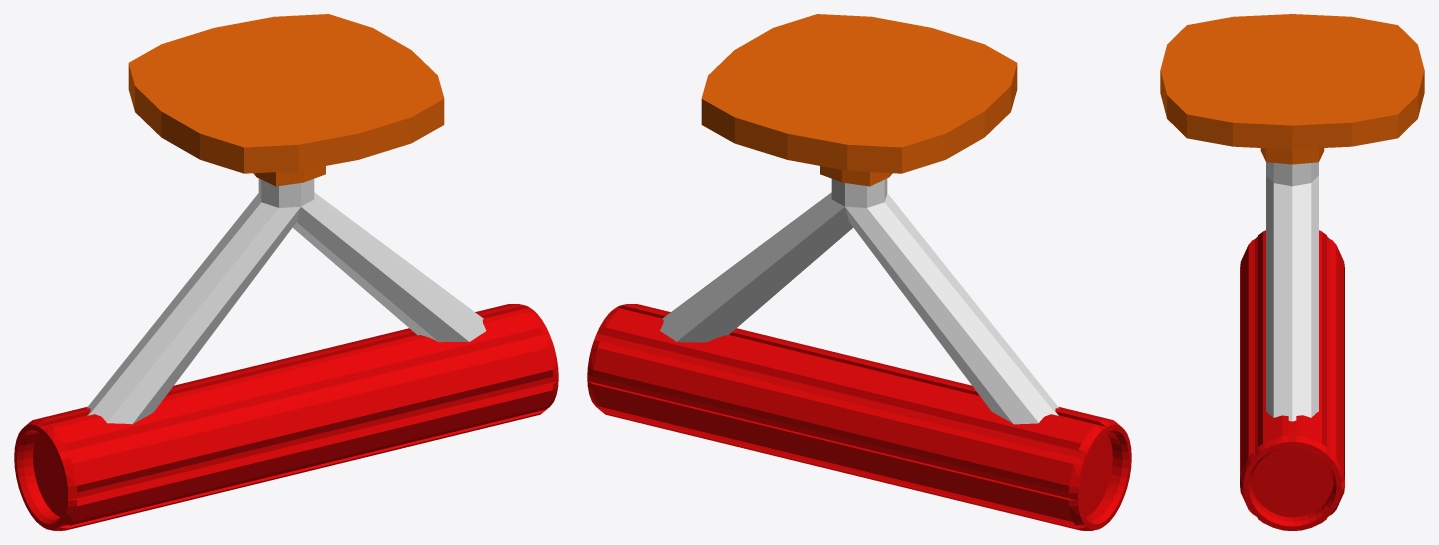
Rendered from Pulley.fbx.
3 renders of one model, left to right at view 1: azimuth 30°, elevation 25°; view 2: azimuth 150°, elevation 25°; view 3: azimuth 270°, elevation 25°, orthographic. The views are drawn at different scales.
Parts seen in each view (by area): view 1: Handle, Rod, Connector; view 2: Handle, Rod, Connector; view 3: Rod, Handle, Connector.
Part boxes in pixels (<box>): Handle: <box>14,304,558,530</box>; Rod: <box>128,14,444,186</box>; Connector: <box>87,178,486,424</box>; Handle: <box>587,304,1131,530</box>; Rod: <box>701,14,1017,186</box>; Connector: <box>660,178,1058,424</box>; Rod: <box>1160,14,1424,164</box>; Handle: <box>1240,230,1344,530</box>; Connector: <box>1266,162,1318,421</box>.
Size of the model in its own units: 0.098 by 0.0742 by 0.05.
